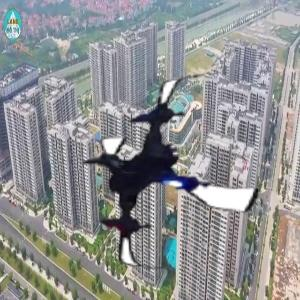drone: (70, 69, 279, 278)
